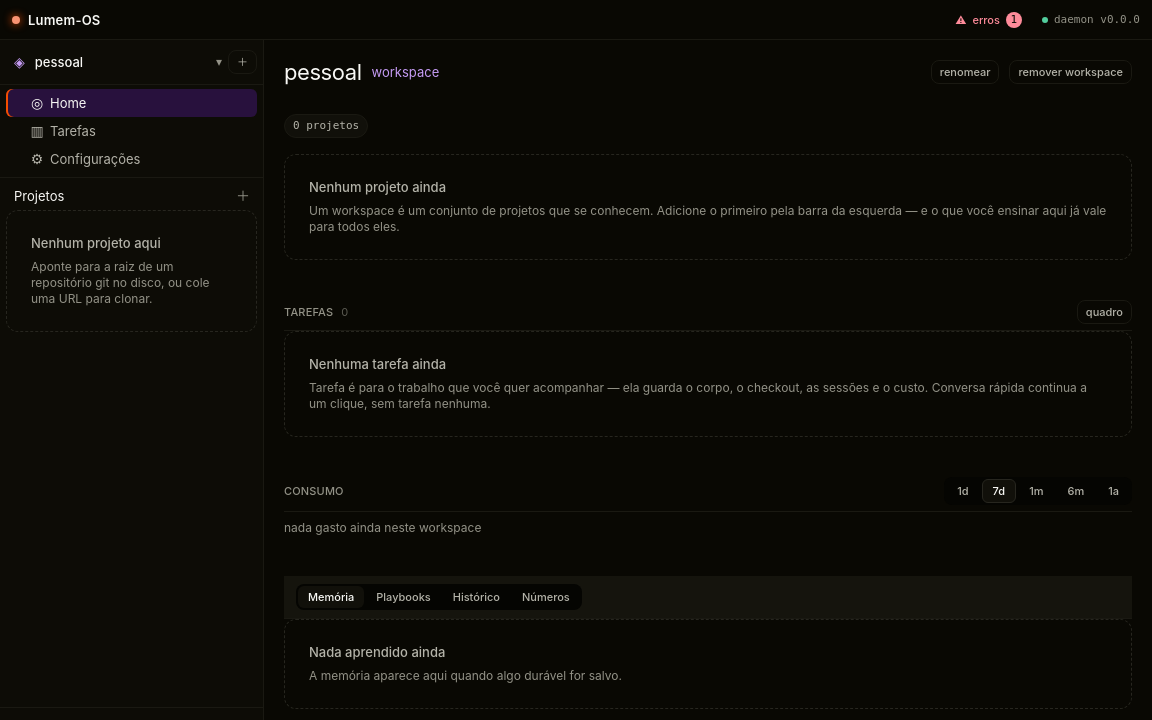
o campo que aceita as duas coisas › diz o que o servidor entendeu de uma URL, e mostra o destino calculado
Step 1. Click the button named "adicionar projeto" → (243, 196), box [231, 184, 255, 208]
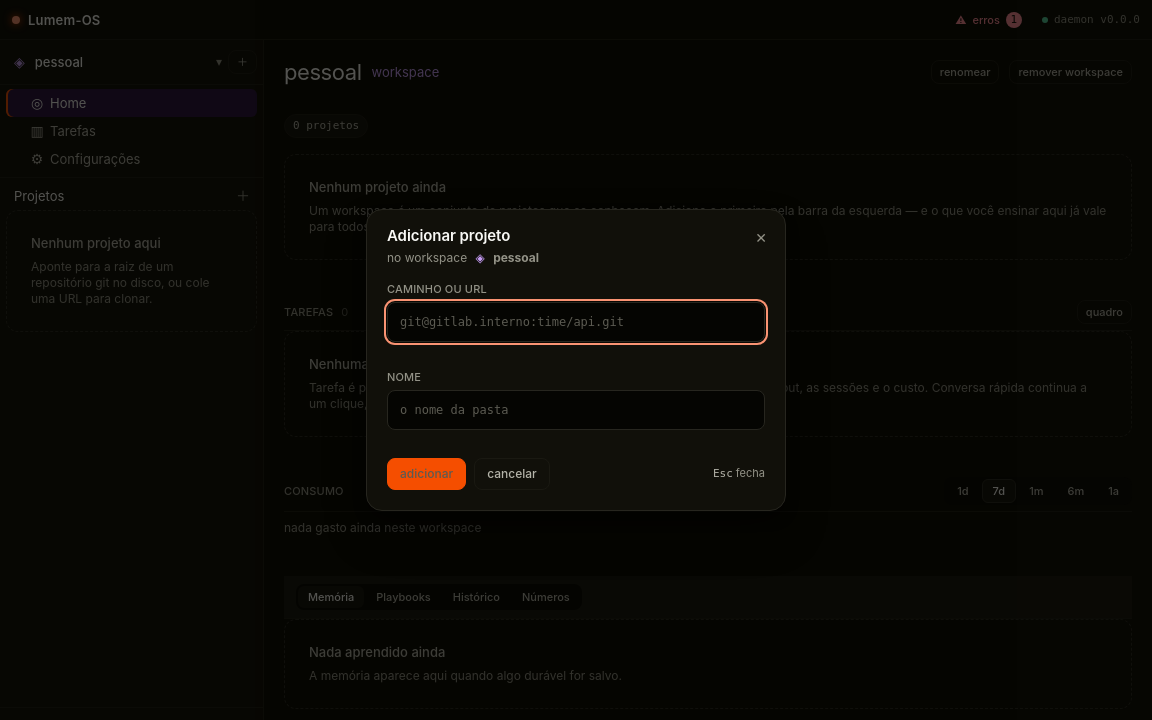
Step 2. Type "git@gitlab.com:time/api.git" into the field labelled "Caminho ou URL" → (576, 322), box [387, 302, 765, 342]
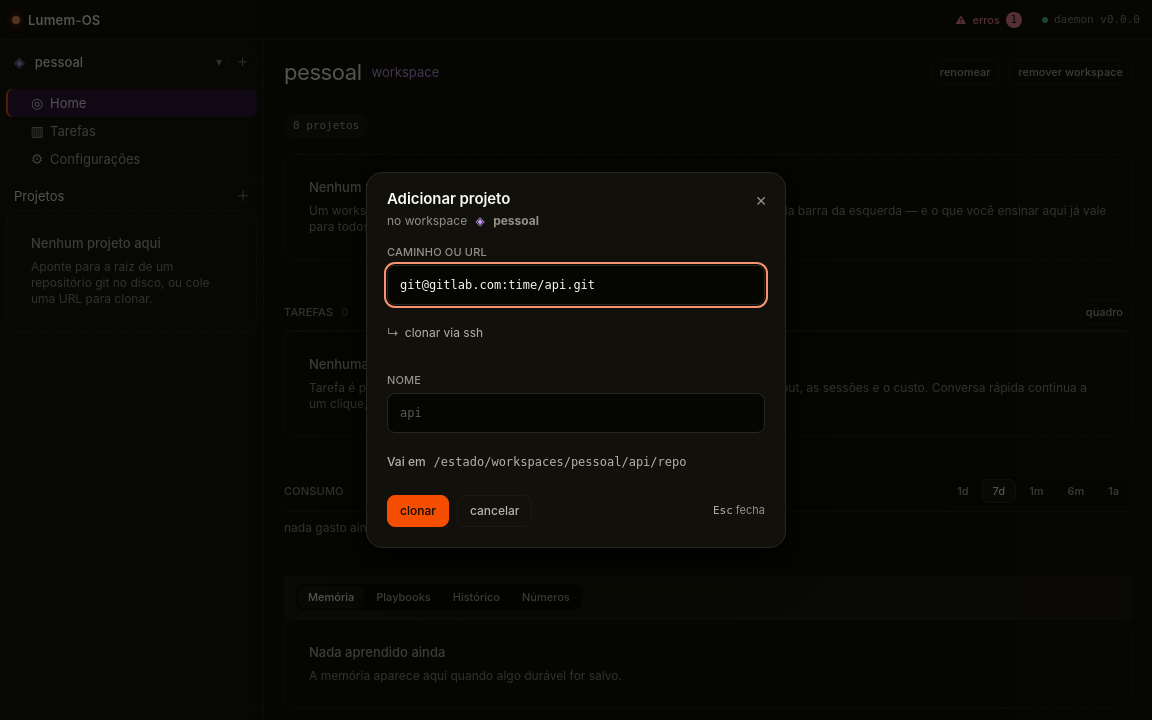
Now the text "↳ clonar via ssh" is shown, box [387, 325, 483, 340]
Now the text "/estado/workspaces/pessoal/api/repo" is shown, box [434, 455, 686, 469]
